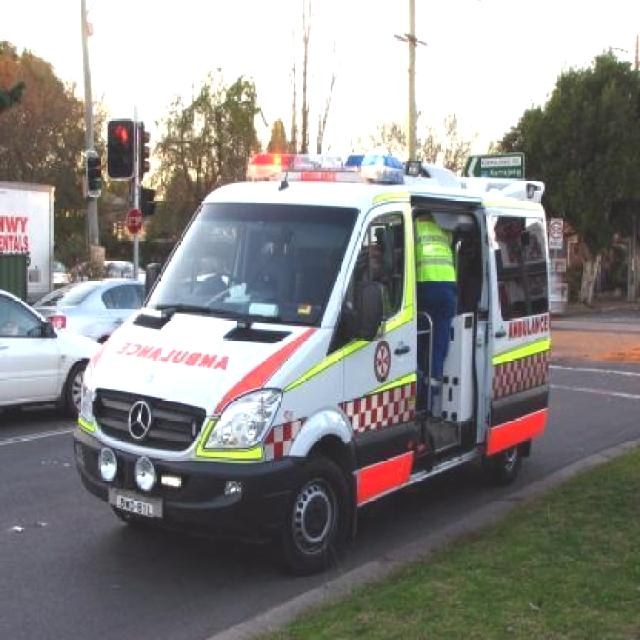Truck: (70, 158, 559, 554)
